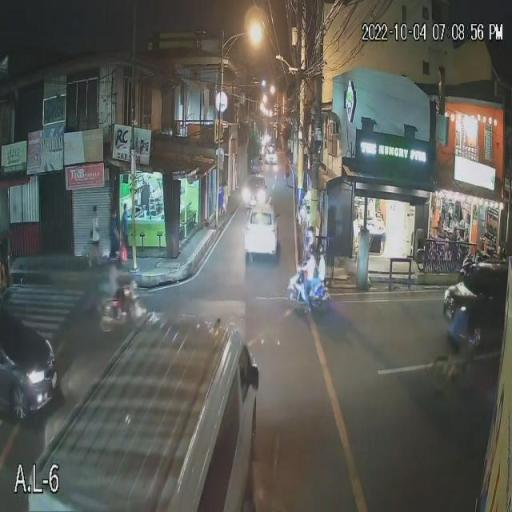helmet: (308, 243, 316, 256), (317, 242, 325, 255)
motorcycle: (288, 274, 332, 308)
rider: (302, 256, 315, 315), (310, 259, 326, 301)
